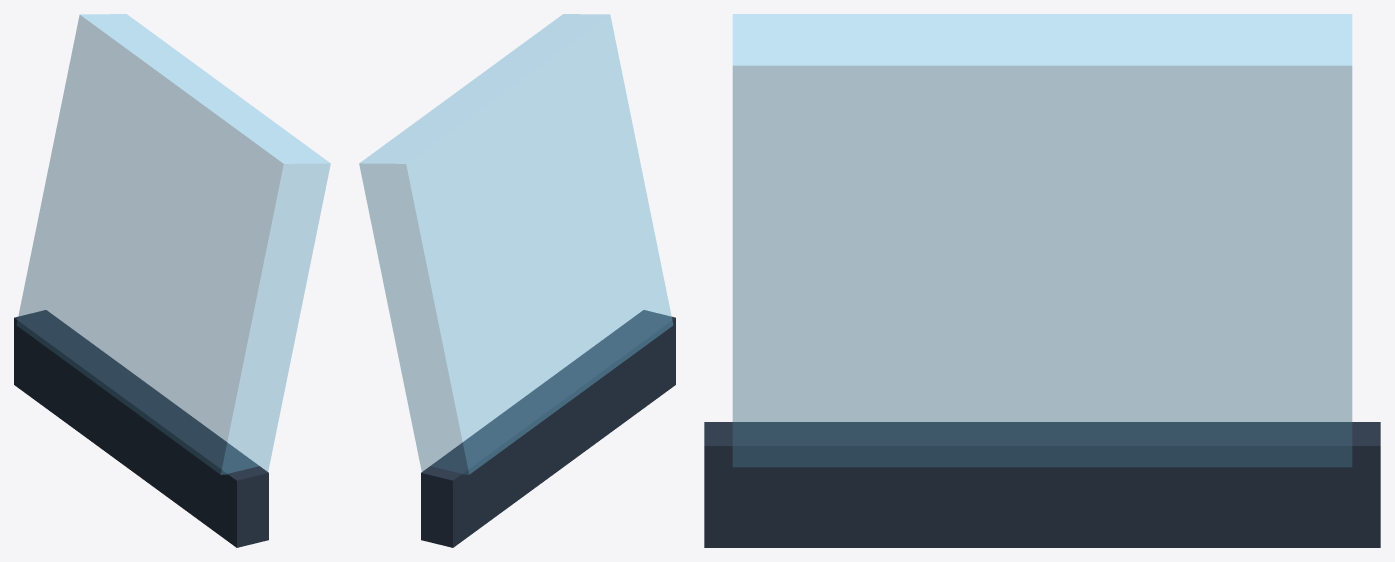
File: generic-windshield.glb
3 views of the same model, side by side, from view 1: azimuth 30°, elevation 25°; view 2: azimuth 150°, elevation 25°; view 3: azimuth 270°, elevation 25° (orthographic). The views are drawn at different scales.
Parts seen in each view (by area): view 1: transparent_shield, mount_bracket; view 2: transparent_shield, mount_bracket; view 3: transparent_shield, mount_bracket.
Part boxes in pixels (left/top/right/bottom): transparent_shield: left=16, top=14, right=330, bottom=474; mount_bracket: left=14, top=310, right=268, bottom=547; transparent_shield: left=359, top=14, right=673, bottom=474; mount_bracket: left=421, top=310, right=675, bottom=547; transparent_shield: left=732, top=14, right=1352, bottom=467; mount_bracket: left=704, top=422, right=1380, bottom=547.
Size of the model in its own units: 0.2742 by 0.8644 by 0.96.
